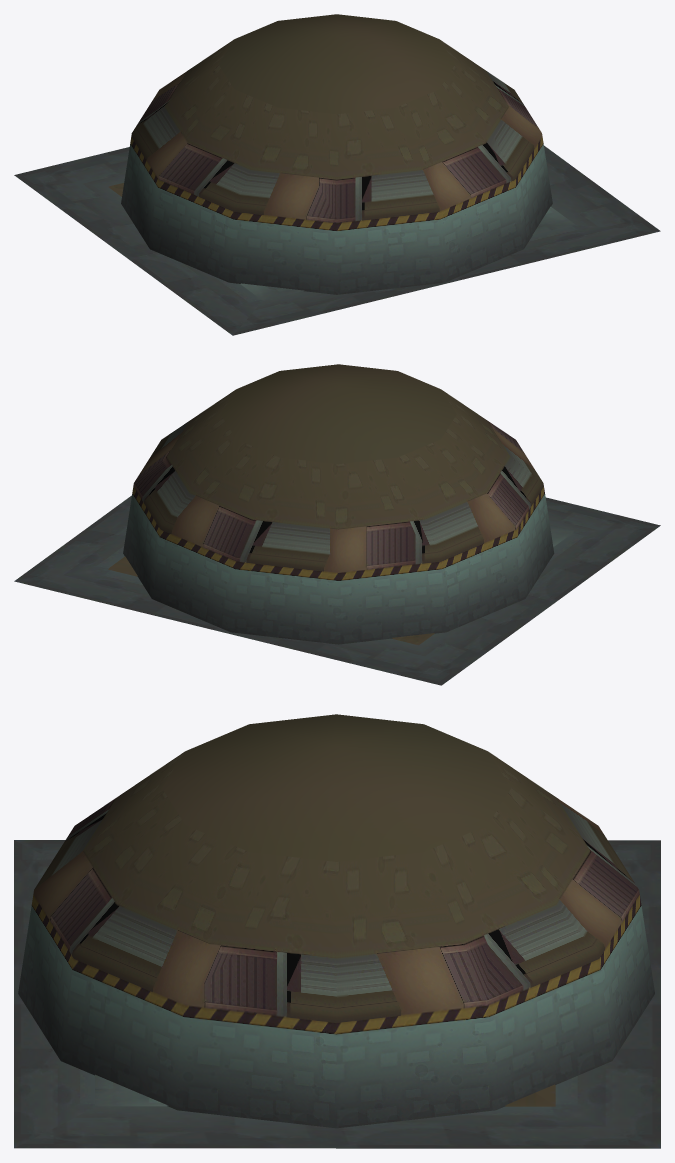
Rendered from Combined_Mesh_root_scene__8_c5249964__junkyard_diffuse_02_d_f5db99a4_c1f257.obj.
The picture shows the model from 3 angles, top to bottom: view 1: azimuth 30°, elevation 25°; view 2: azimuth 150°, elevation 25°; view 3: azimuth 270°, elevation 25°; orthographic projection. The views are drawn at different scales.
Size of the model in its own units: 109 by 41.29 by 96.33.
Materials: 294 (294 with a texture image).
